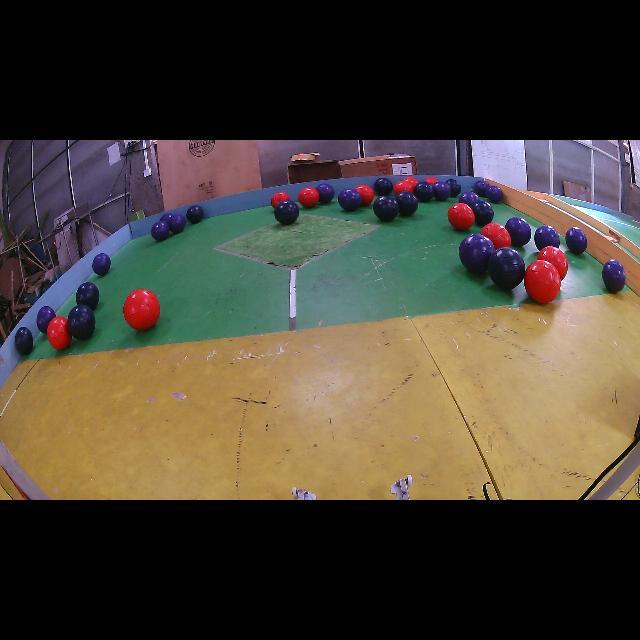B: (489, 248, 525, 289), (68, 305, 95, 340), (372, 195, 399, 221), (76, 282, 100, 310), (565, 226, 588, 255), (274, 200, 299, 225), (395, 191, 419, 216), (471, 200, 494, 226), (15, 326, 34, 356), (414, 181, 434, 202), (186, 205, 204, 224), (374, 178, 392, 196), (446, 179, 461, 198)
P: (459, 234, 495, 272), (602, 259, 626, 294), (505, 216, 531, 246), (534, 225, 560, 250), (36, 306, 56, 334), (338, 189, 361, 211), (92, 252, 111, 275), (151, 221, 170, 241), (316, 184, 335, 204), (432, 181, 451, 201), (168, 214, 186, 234), (486, 185, 504, 204), (459, 191, 480, 206), (472, 180, 489, 198), (160, 214, 172, 224)
R: (524, 260, 561, 304), (124, 289, 160, 330), (538, 246, 568, 280), (480, 222, 511, 249), (48, 316, 71, 350), (448, 202, 475, 230), (299, 188, 320, 208), (355, 185, 375, 206), (271, 191, 290, 208), (394, 181, 414, 195), (402, 176, 418, 188), (424, 178, 438, 185)
